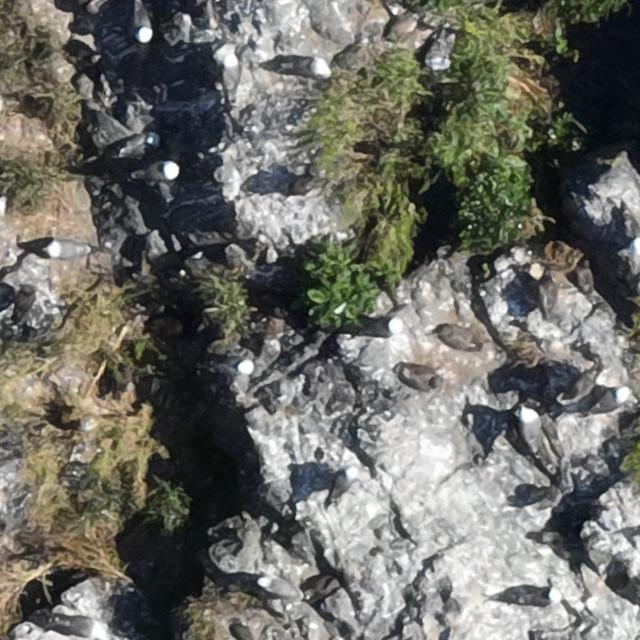umineko: (49, 617, 110, 638), (328, 464, 357, 506), (589, 386, 629, 416), (259, 577, 304, 603), (506, 585, 561, 604), (283, 57, 331, 77), (213, 356, 258, 374), (360, 317, 402, 336), (46, 240, 86, 258), (142, 161, 177, 179), (223, 54, 239, 91), (523, 411, 540, 445), (134, 9, 151, 42)
